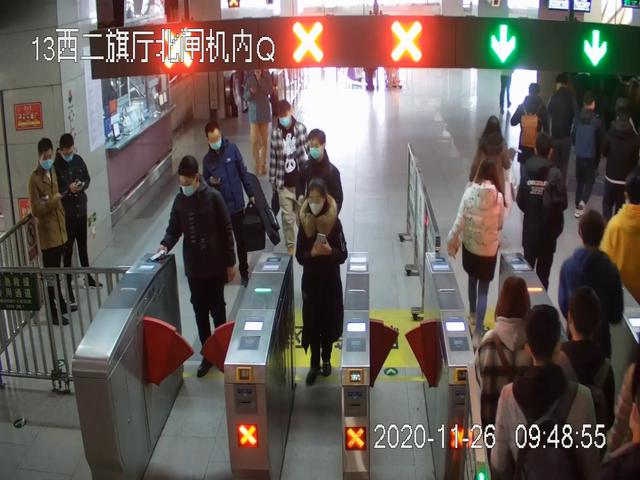person: (492, 306, 599, 480), (159, 156, 238, 378), (476, 276, 561, 480), (559, 210, 625, 430), (296, 179, 351, 387), (446, 158, 506, 338), (29, 137, 78, 327), (517, 134, 567, 304), (203, 123, 253, 288), (54, 133, 101, 287), (269, 100, 314, 253), (468, 115, 512, 242), (508, 83, 547, 204), (604, 106, 638, 222), (242, 68, 275, 176), (570, 92, 597, 218)
